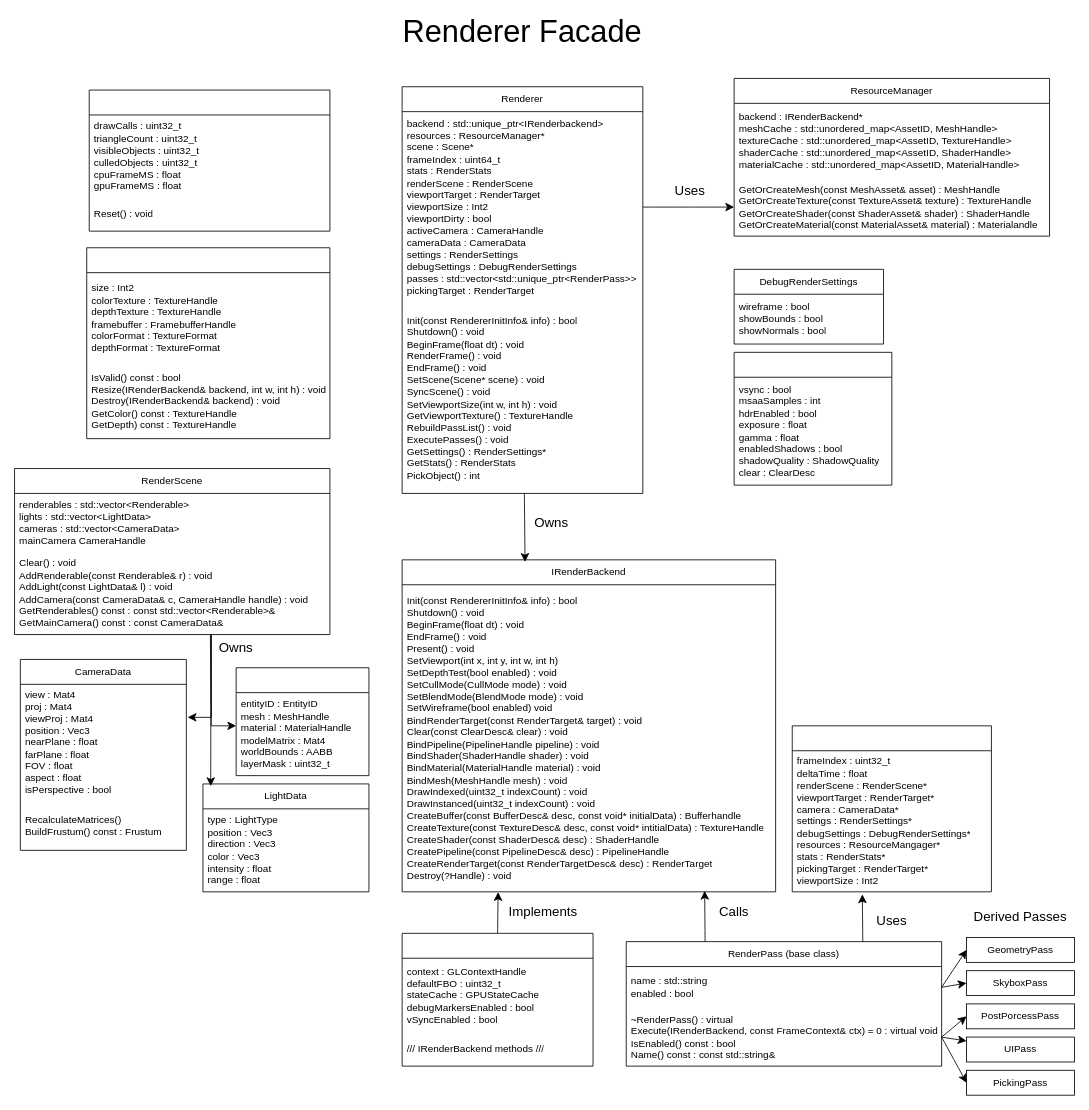
Image size: 1089x1110. Some labels were removed from this diagram. The shapes that lost their labels are listed below. From the top down, each one's box as (x1, y1, x2, y2) in pixels, then its label:
(88, 89, 330, 231): RenderStats
(86, 247, 330, 439): RenderTarget
(733, 352, 892, 485): RenderSettings
(235, 667, 369, 776): Renderable
(791, 725, 991, 892): FrameContext
(401, 933, 593, 1066): OpenGLBackend : IRenderBackend
